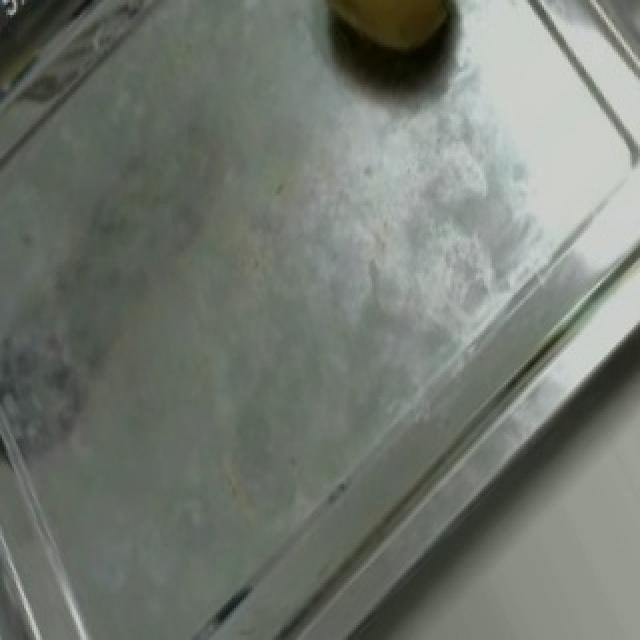Fruit: (290, 0, 484, 97)
